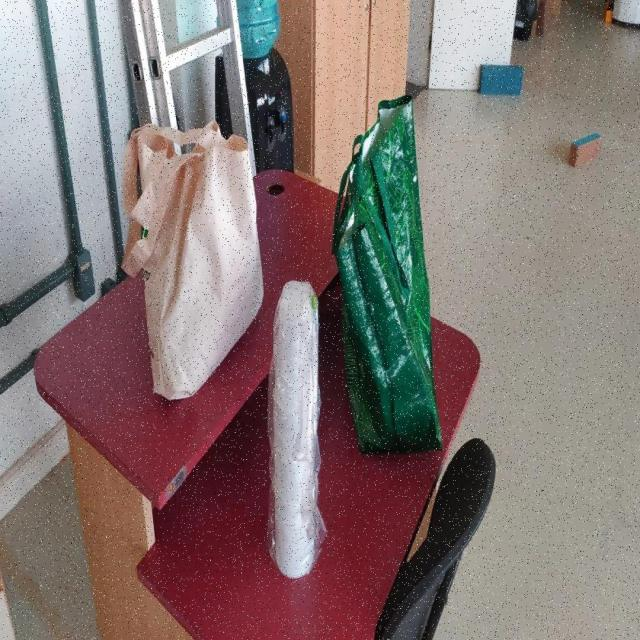Bag: (122, 122, 266, 405), (334, 97, 442, 462)
